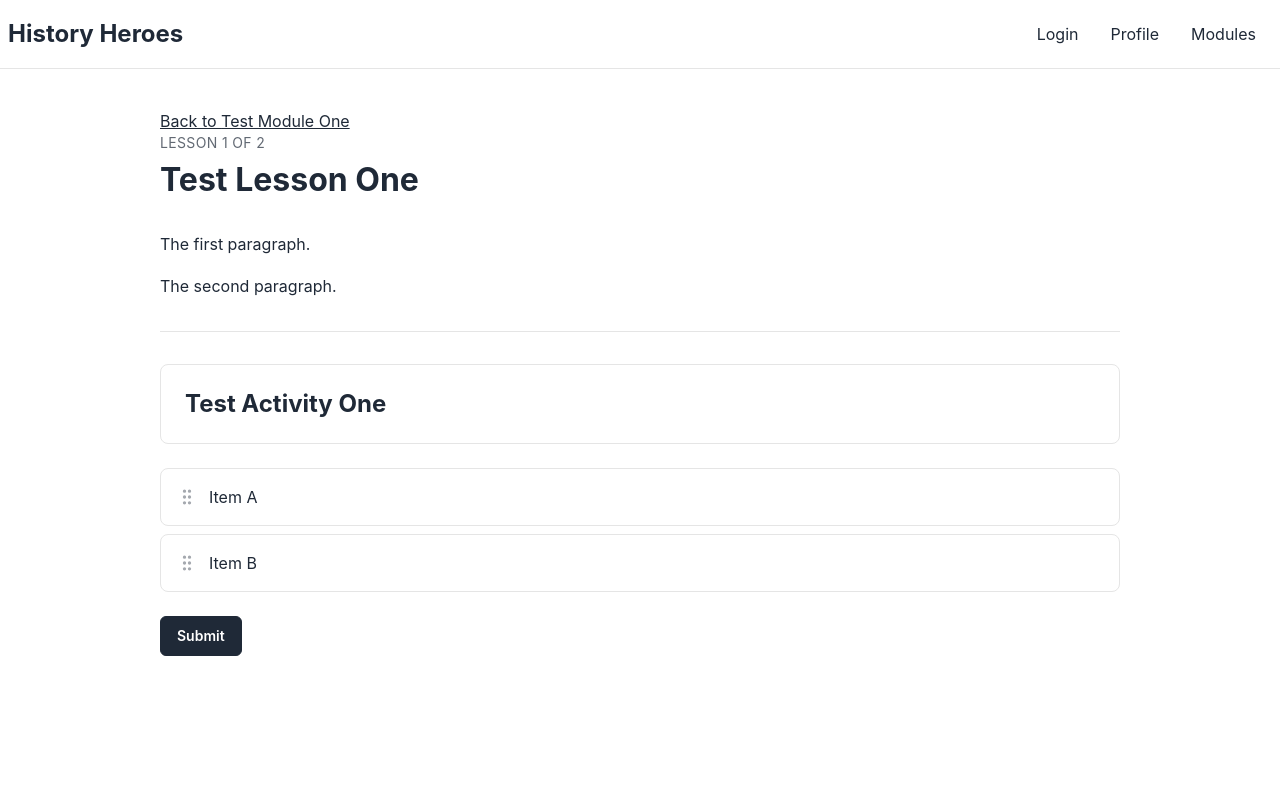
does not unlock the next lesson after only part of a lesson is correct
Expected: the heading "Test Lesson One" is shown, [160,160,419,199]
Click the button "Submit": x=201, y=636 [160,616,242,656]
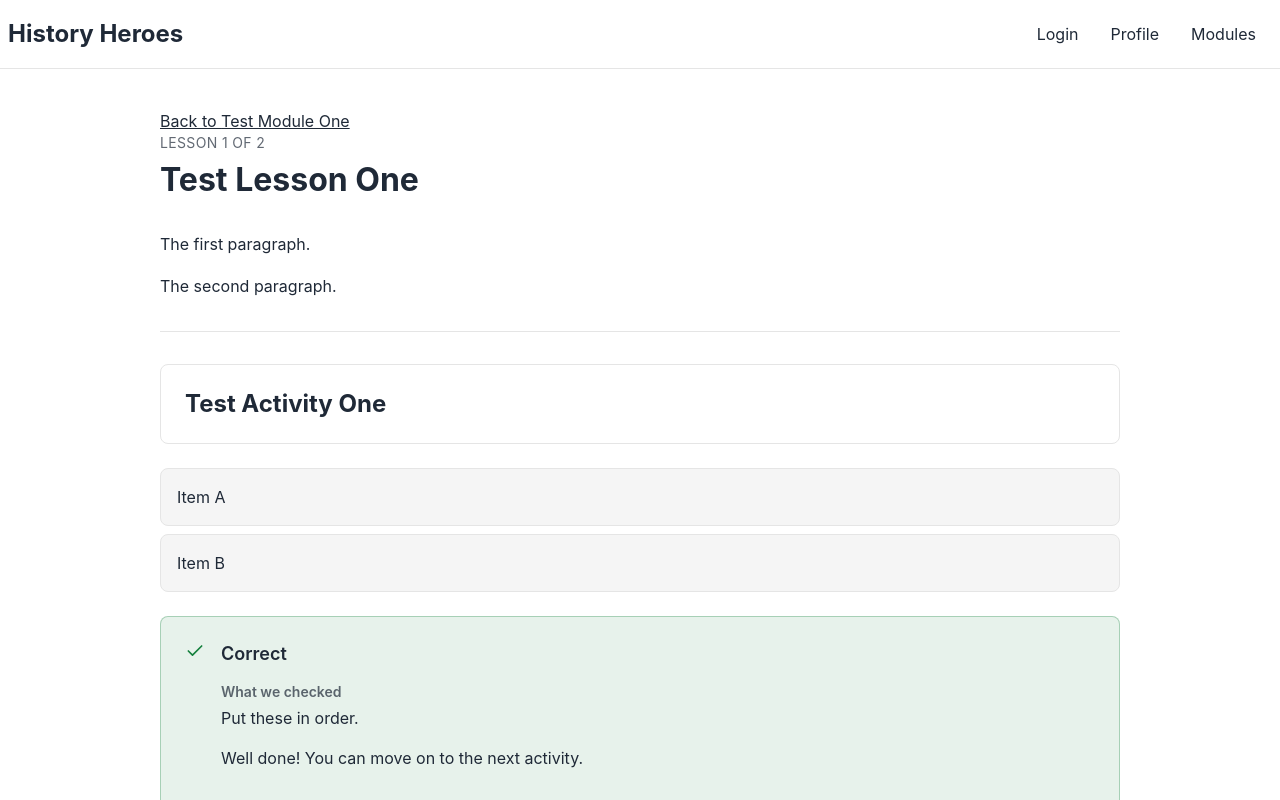
Expected: the heading "Correct" is shown, [221,643,287,664]
